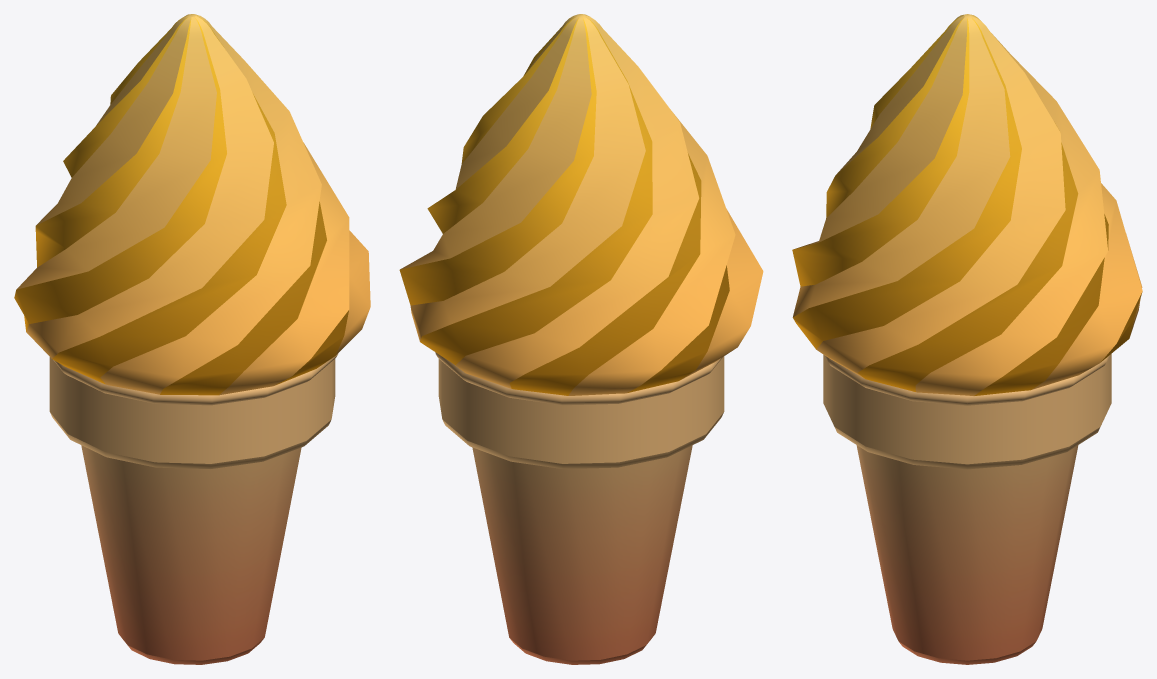
The model's file is Icecream_V2_00.fbx.
3 renders of one model, left to right at view 1: azimuth 30°, elevation 25°; view 2: azimuth 150°, elevation 25°; view 3: azimuth 270°, elevation 25°, orthographic.
Visible parts, largest first — view 1: Icecream_V2_00; view 2: Icecream_V2_00; view 3: Icecream_V2_00.
Part boxes in pixels (x1,y1,x2,y2): Icecream_V2_00: (14, 14, 370, 664); Icecream_V2_00: (399, 14, 763, 664); Icecream_V2_00: (792, 14, 1142, 664).
Bounding box in the file's own units: 27.73 × 54.33 × 27.73.
